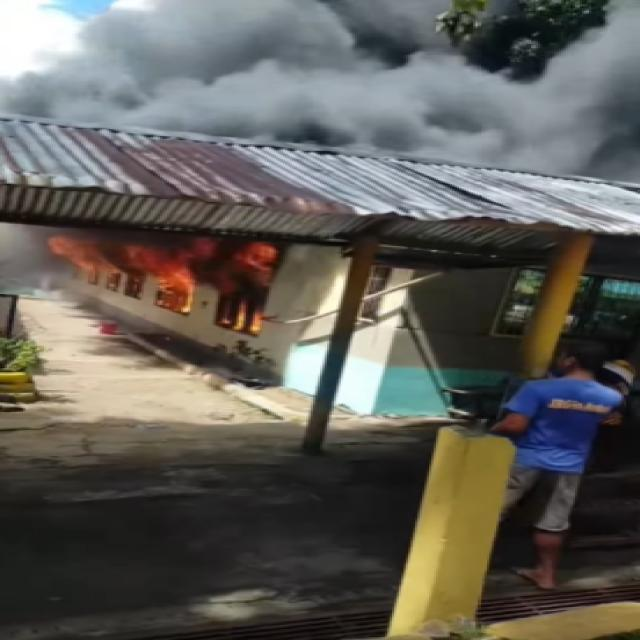Fire: (46, 218, 287, 333)
Smoke: (104, 0, 640, 191), (0, 0, 470, 132)
